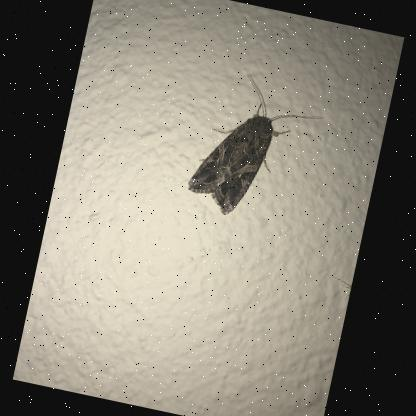Fall Armyworm Moth: (180, 63, 327, 233)
